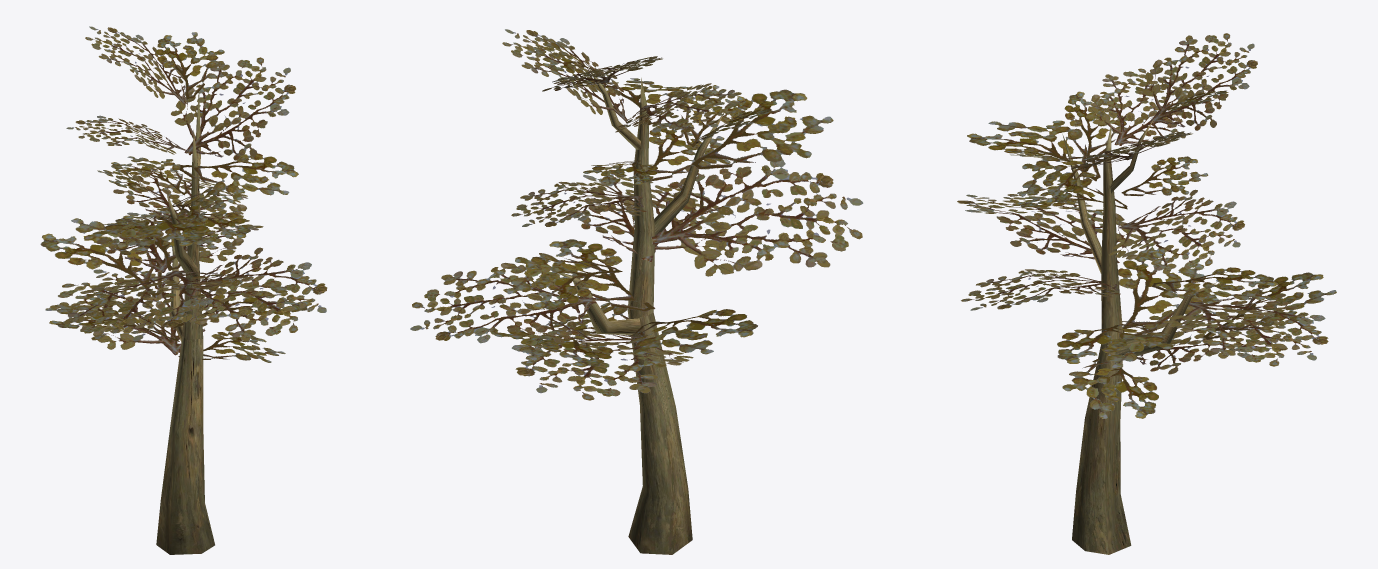
3 views of the same model, side by side, from view 1: azimuth 30°, elevation 25°; view 2: azimuth 150°, elevation 25°; view 3: azimuth 270°, elevation 25° (orthographic). The views are drawn at different scales.
Parts seen in each view (by area): view 1: polySurface1, polySurface23; view 2: polySurface1, polySurface23; view 3: polySurface1, polySurface23.
Part boxes in pixels (x1,y1,x2,y2): polySurface1: [40, 26, 327, 362]; polySurface23: [156, 92, 214, 554]; polySurface1: [410, 29, 863, 400]; polySurface23: [553, 68, 724, 554]; polySurface1: [957, 33, 1336, 418]; polySurface23: [1062, 118, 1216, 554].
Size of the model in its own units: 14.38 by 18.95 by 15.54.
